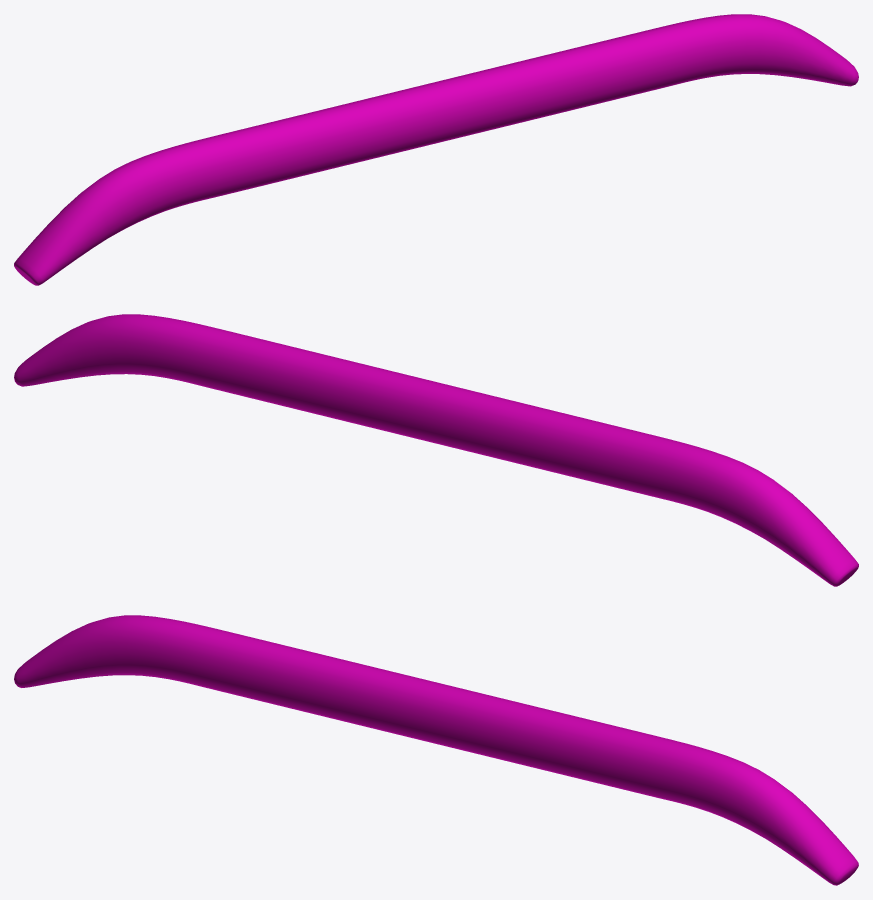
File: uniceja.glb
3 renders of one model, top to bottom at view 1: azimuth 30°, elevation 25°; view 2: azimuth 150°, elevation 25°; view 3: azimuth 330°, elevation 25°, orthographic.
Parts seen in each view (by area): view 1: Cube; view 2: Cube; view 3: Cube.
Boxes of the visible parts, x1=… form: Cube: x1=14, y1=14, x2=858, y2=285; Cube: x1=14, y1=314, x2=858, y2=586; Cube: x1=14, y1=615, x2=858, y2=885.
Bounding box in the file's own units: 3.68 × 0.4176 × 0.189.
